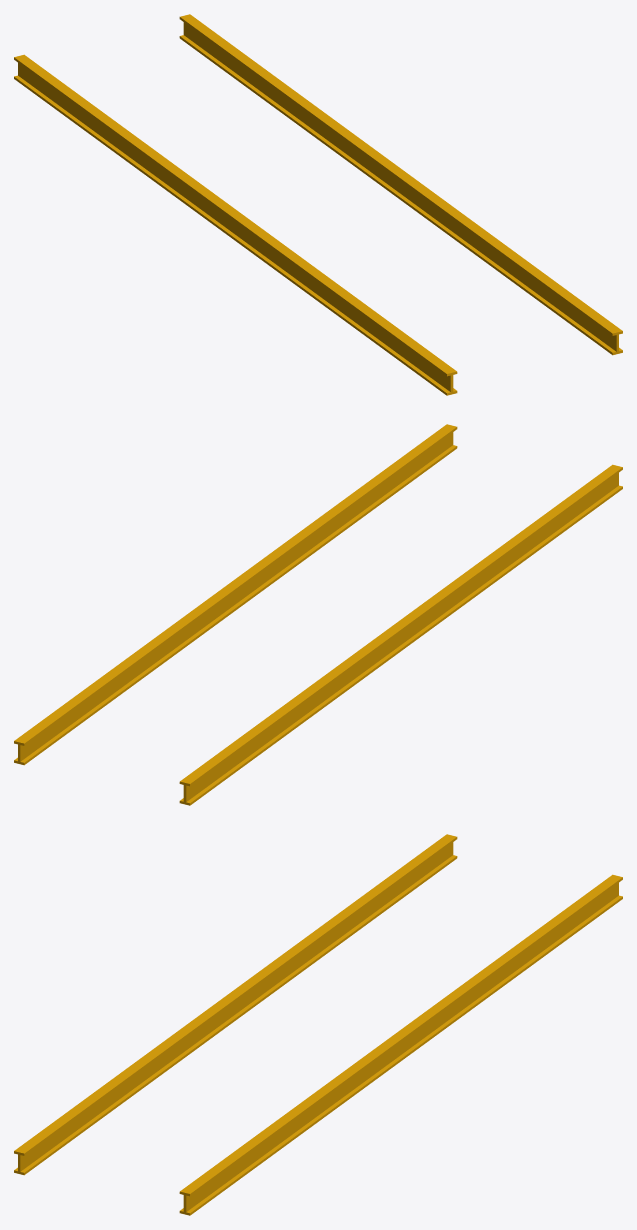
File: CraneBridge_16ft_T1.fbx
3 renders of one model, top to bottom at view 1: azimuth 30°, elevation 25°; view 2: azimuth 150°, elevation 25°; view 3: azimuth 330°, elevation 25°, orthographic.
Visible parts, largest first — view 1: CraneBridge_16ft_T1; view 2: CraneBridge_16ft_T1; view 3: CraneBridge_16ft_T1.
Boxes of the visible parts, left/top/right/bottom form: CraneBridge_16ft_T1: left=14, top=14, right=622, bottom=395; CraneBridge_16ft_T1: left=14, top=424, right=622, bottom=805; CraneBridge_16ft_T1: left=14, top=834, right=622, bottom=1215.
Size of the model in its own units: 518 by 60.97 by 2206.
